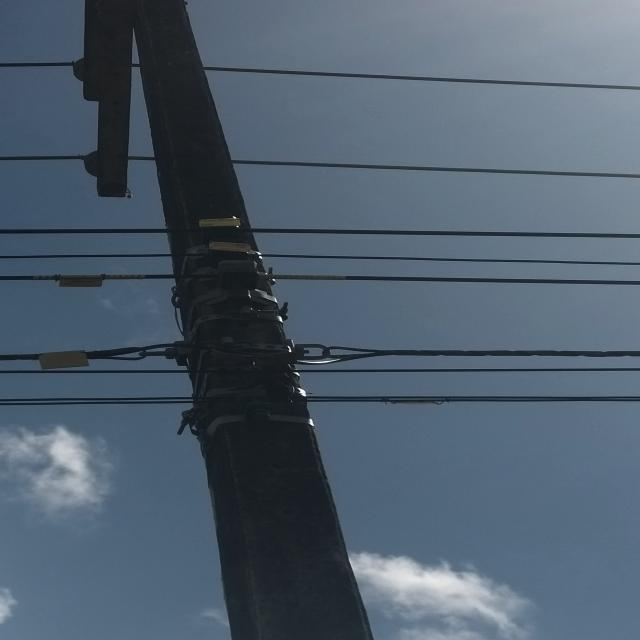Plaqueta: (208, 350, 254, 366)
